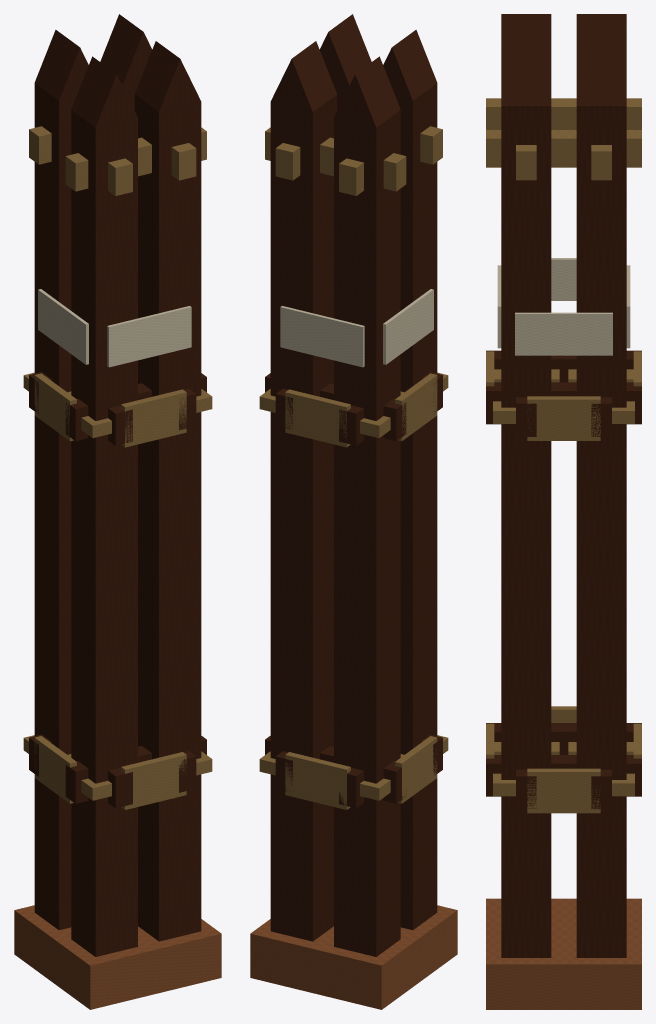
The model's file is Berber_PalisadeBastion_Age2_junction_cross.fbx.
The picture shows the model from 3 angles, left to right: view 1: azimuth 30°, elevation 25°; view 2: azimuth 150°, elevation 25°; view 3: azimuth 270°, elevation 25°; orthographic projection. The views are drawn at different scales.
Parts seen in each view (by area): view 1: split_timber_upright.016, split_timber_upright.018, split_timber_upright.017, compacted_earth_footing.004, native_owner_stripe_source.018, exposed_wall_socket_collar.023, split_timber_upright.019, exposed_wall_socket_collar.022, native_owner_stripe_source.016, exposed_wall_socket_collar.021, exposed_wall_socket_collar.020, locking_head_tie_x.008 (+9 smaller); view 2: split_timber_upright.017, split_timber_upright.019, split_timber_upright.016, compacted_earth_footing.004, native_owner_stripe_source.019, exposed_wall_socket_collar.018, exposed_wall_socket_collar.019, split_timber_upright.018, native_owner_stripe_source.016, exposed_wall_socket_collar.021, exposed_wall_socket_collar.020, locking_head_tie_x.009 (+9 smaller); view 3: split_timber_upright.018, split_timber_upright.019, compacted_earth_footing.004, native_owner_stripe_source.017, exposed_wall_socket_collar.016, exposed_wall_socket_collar.017, locking_head_tie_y.009, locking_head_tie_y.008, split_timber_upright.016, split_timber_upright.017, bundle_cross_tie_y.019, bundle_cross_tie_y.017 (+12 smaller).
Part boxes in pixels (bbox=[...]): split_timber_upright.016: bbox=[71, 56, 137, 956]; split_timber_upright.018: bbox=[134, 41, 201, 941]; split_timber_upright.017: bbox=[34, 30, 88, 930]; compacted_earth_footing.004: bbox=[14, 905, 221, 1009]; native_owner_stripe_source.018: bbox=[107, 306, 191, 367]; exposed_wall_socket_collar.023: bbox=[121, 389, 186, 447]; split_timber_upright.019: bbox=[100, 14, 152, 109]; exposed_wall_socket_collar.022: bbox=[121, 752, 186, 809]; native_owner_stripe_source.016: bbox=[38, 289, 88, 364]; exposed_wall_socket_collar.021: bbox=[34, 373, 76, 441]; exposed_wall_socket_collar.020: bbox=[34, 736, 76, 803]; locking_head_tie_x.008: bbox=[65, 127, 206, 191]; split_timber_upright.017: bbox=[334, 56, 400, 956]; split_timber_upright.019: bbox=[270, 41, 337, 941]; split_timber_upright.016: bbox=[383, 30, 437, 930]; compacted_earth_footing.004: bbox=[250, 905, 457, 1009]; native_owner_stripe_source.019: bbox=[280, 306, 364, 367]; exposed_wall_socket_collar.018: bbox=[285, 752, 350, 809]; exposed_wall_socket_collar.019: bbox=[285, 389, 350, 447]; split_timber_upright.018: bbox=[319, 14, 371, 109]; native_owner_stripe_source.016: bbox=[383, 289, 433, 364]; exposed_wall_socket_collar.021: bbox=[395, 373, 437, 441]; exposed_wall_socket_collar.020: bbox=[395, 736, 437, 803]; locking_head_tie_x.009: bbox=[265, 127, 406, 191]; split_timber_upright.018: bbox=[501, 46, 551, 957]; split_timber_upright.019: bbox=[576, 46, 626, 957]; compacted_earth_footing.004: bbox=[486, 898, 641, 1009]; native_owner_stripe_source.017: bbox=[515, 312, 612, 355]; exposed_wall_socket_collar.016: bbox=[527, 768, 600, 813]; exposed_wall_socket_collar.017: bbox=[527, 396, 600, 440]; locking_head_tie_y.009: bbox=[486, 130, 641, 167]; locking_head_tie_y.008: bbox=[486, 98, 641, 129]; split_timber_upright.016: bbox=[501, 14, 551, 45]; split_timber_upright.017: bbox=[576, 14, 626, 45]; bundle_cross_tie_y.019: bbox=[486, 382, 641, 424]; bundle_cross_tie_y.017: bbox=[486, 755, 641, 796].
Bounding box in the file's own units: 68.29 × 458 × 68.29.
4 materials, 4 textured.
